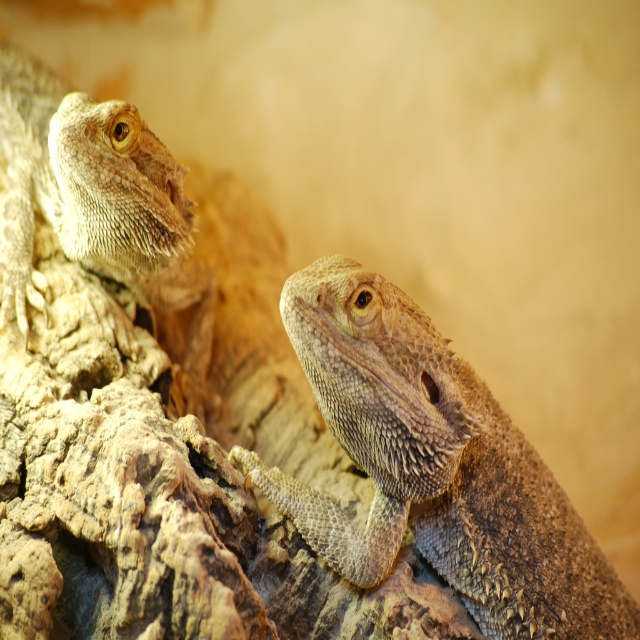Lizard: (256, 247, 628, 640), (0, 88, 222, 319)
